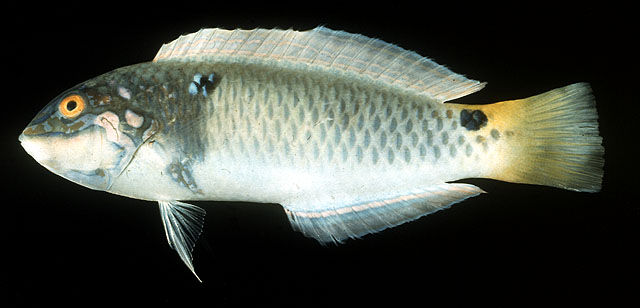fish: (18, 24, 607, 283)
